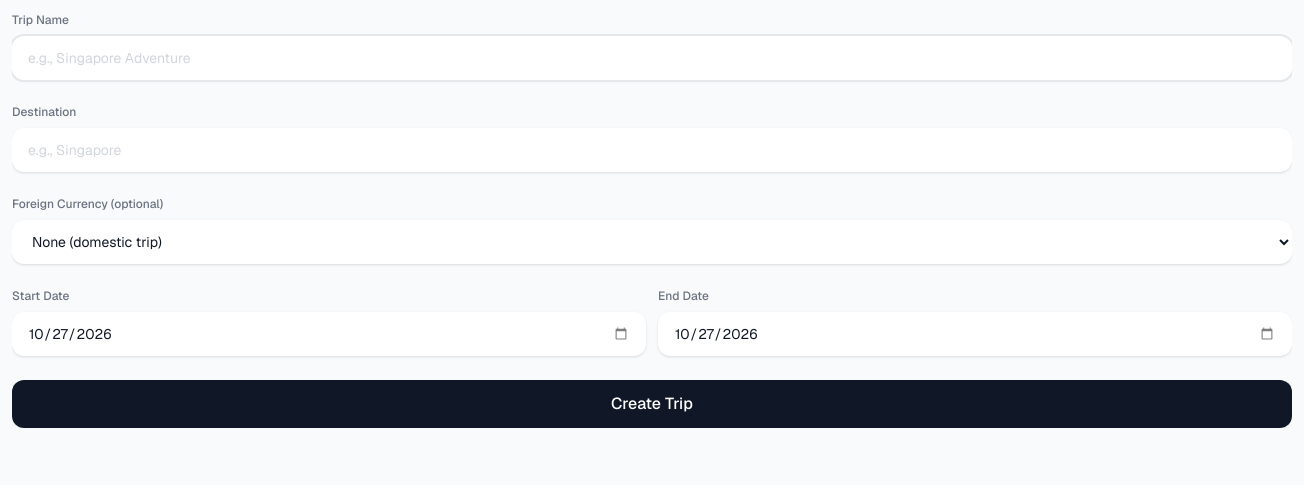
TripForm › shows validation error for short destination
Type "a" into the field with placeholder "e.g., Singapore" at [652, 150], box [12,128,1292,172]
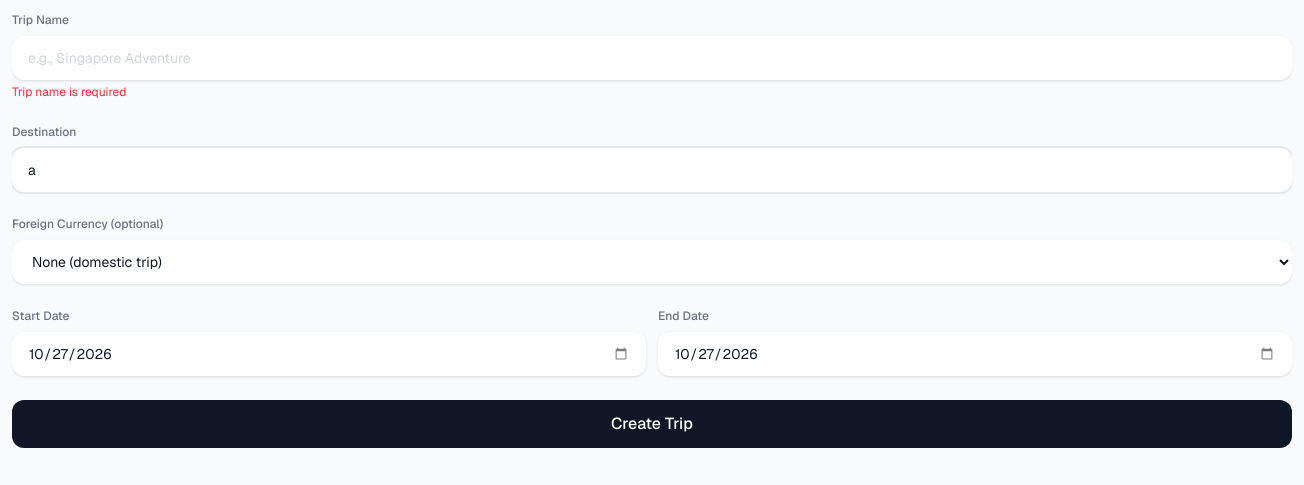
Press Tab
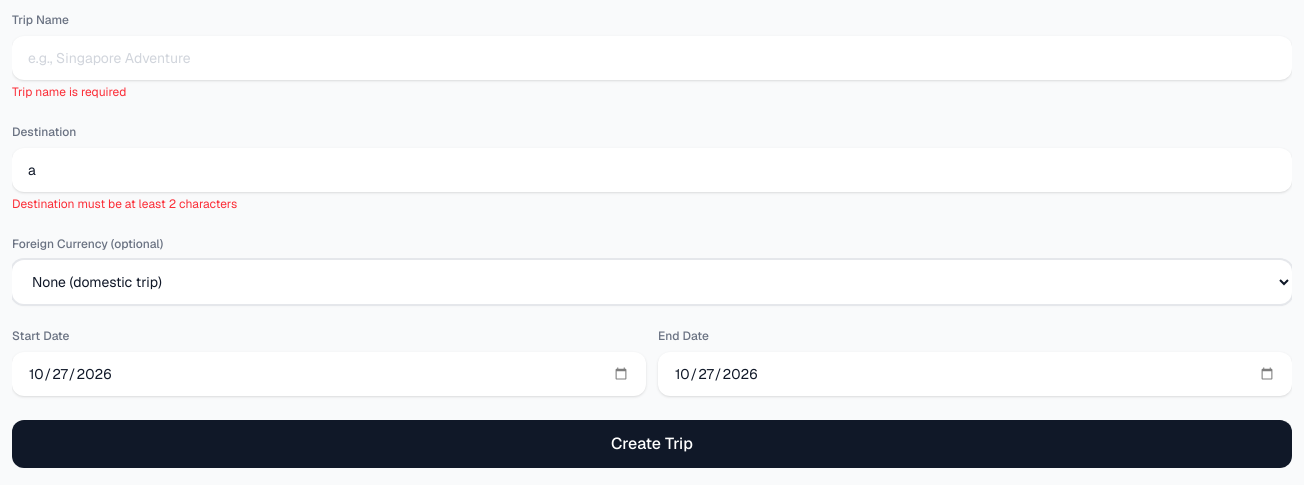
Now the text "Destination must be at least 2 characters" is shown, box [12,196,237,212]
